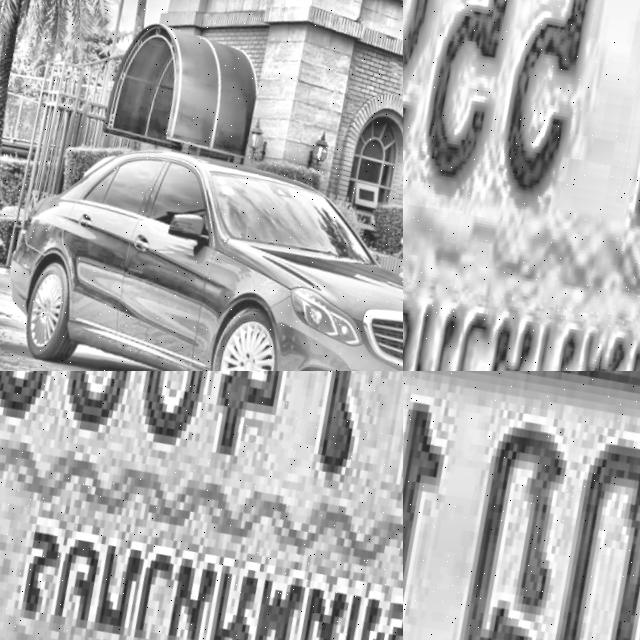license-plate: (0, 371, 403, 640), (403, 0, 640, 371), (403, 371, 640, 640)
